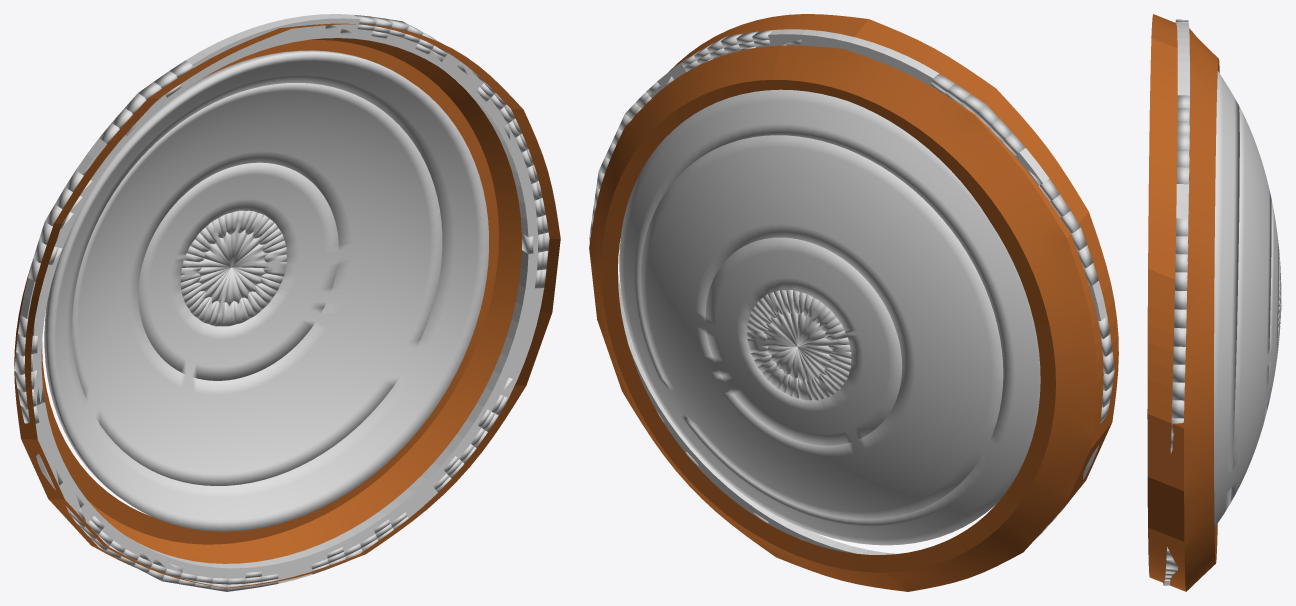
The model's file is nautilus_glass - Copy.fbx.
3 views of the same model, side by side, from view 1: azimuth 30°, elevation 25°; view 2: azimuth 150°, elevation 25°; view 3: azimuth 270°, elevation 25° (orthographic). The views are drawn at different scales.
Parts seen in each view (by area): view 1: CockpitGlass, CockpitGlassTrim; view 2: CockpitGlass, CockpitGlassTrim; view 3: CockpitGlassTrim, CockpitGlass.
Boxes of the visible parts, x1,y1,x2,y2 form: CockpitGlass: [14, 14, 549, 591]; CockpitGlassTrim: [14, 23, 560, 588]; CockpitGlass: [589, 29, 1114, 554]; CockpitGlassTrim: [589, 14, 1118, 591]; CockpitGlassTrim: [1147, 14, 1219, 591]; CockpitGlass: [1163, 19, 1281, 585].
Size of the model in its own units: 108 by 110 by 25.38.
